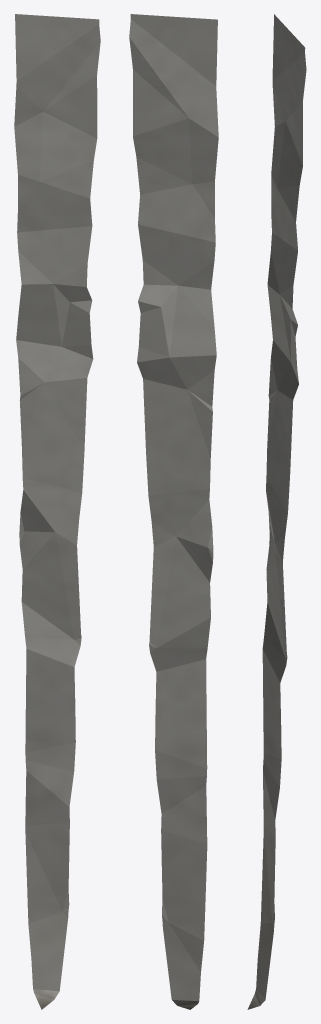
The picture shows the model from 3 angles, left to right: view 1: azimuth 30°, elevation 25°; view 2: azimuth 210°, elevation 25°; view 3: azimuth 330°, elevation 25°; orthographic projection. The views are drawn at different scales.
Bounding box in the file's own units: 0.0298 × 0.4701 × 0.0239.
Materials: 1 (1 with a texture image).
